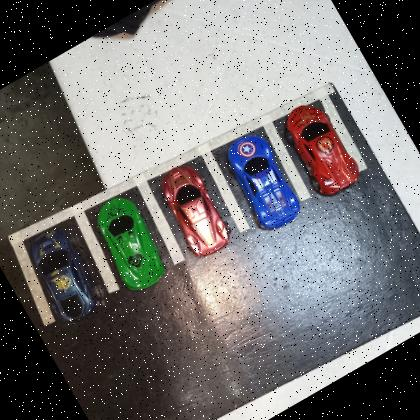Car: (81, 185, 177, 298), (214, 125, 310, 238), (272, 93, 368, 205), (14, 219, 109, 331), (148, 156, 240, 264)
